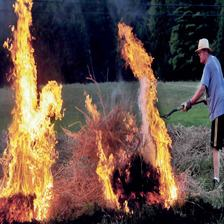fire: (85, 23, 180, 215), (3, 1, 63, 219)
